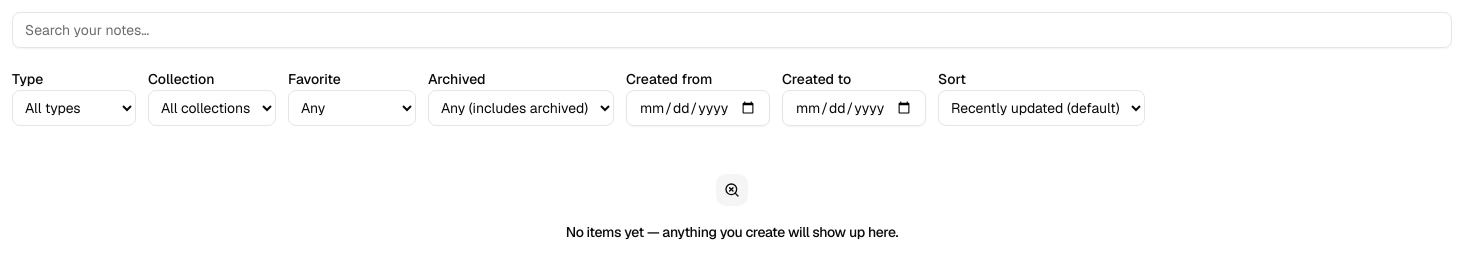
Test: SearchView › shows a 'no results' state distinct from the empty-query browse state
The width and height of the screenshot is (1464, 259).
Select "Note" in the dropdown labelled "Type" at coordinates (74, 108), box [12,90,136,126]
Wait 250 ms
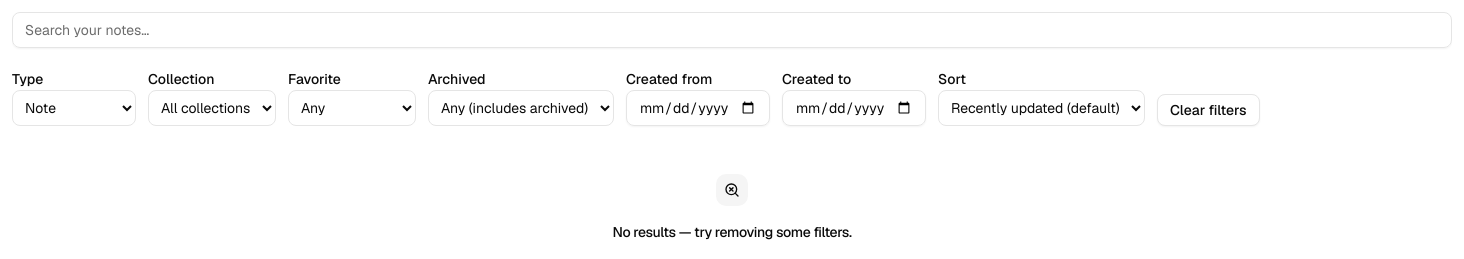
Expected: the text "No results — try removing some filters." is shown, [612,222,852,242]
